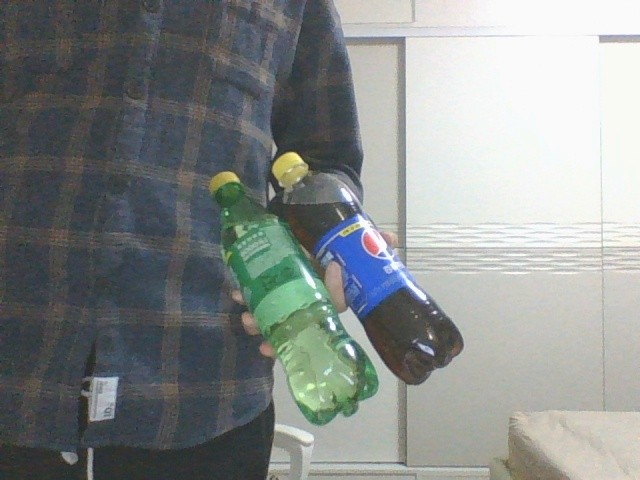Cola: (273, 152, 463, 382)
Sprite: (208, 173, 379, 425)
